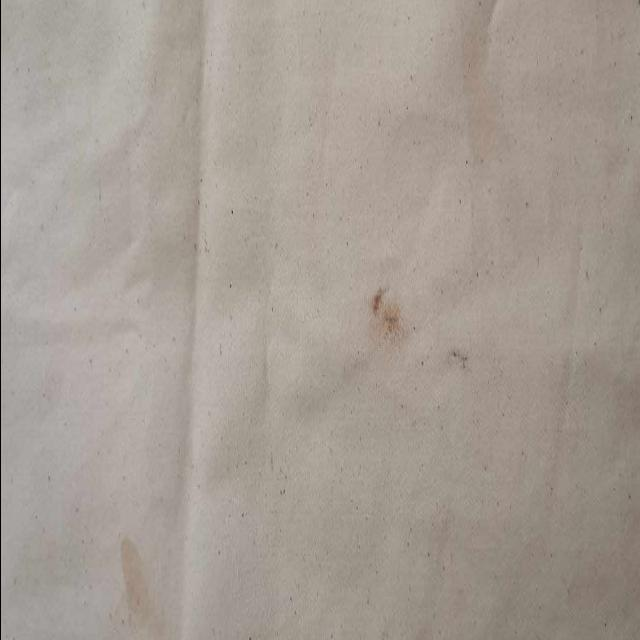taaaches: (358, 276, 406, 355), (106, 527, 154, 606), (441, 322, 478, 377)
